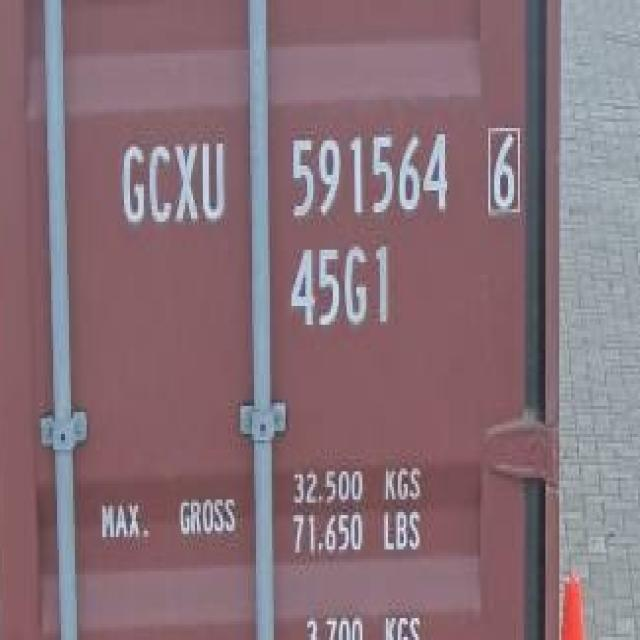dv: (482, 114, 525, 229)
owner: (113, 123, 235, 235)
serial: (284, 118, 452, 226)
size: (284, 238, 393, 332)
